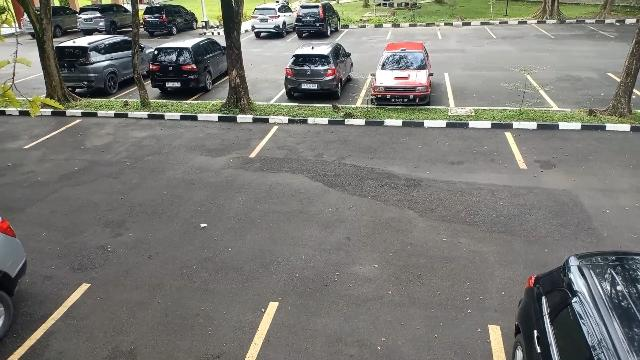empty: (270, 118, 524, 167), (49, 112, 269, 162), (542, 74, 640, 112), (448, 72, 542, 109), (544, 18, 602, 40), (492, 18, 544, 42), (439, 19, 493, 41), (390, 20, 440, 42), (342, 20, 391, 42)
occupied: (362, 54, 450, 104), (279, 50, 361, 103), (147, 47, 226, 99), (294, 10, 342, 40), (248, 10, 292, 42)
